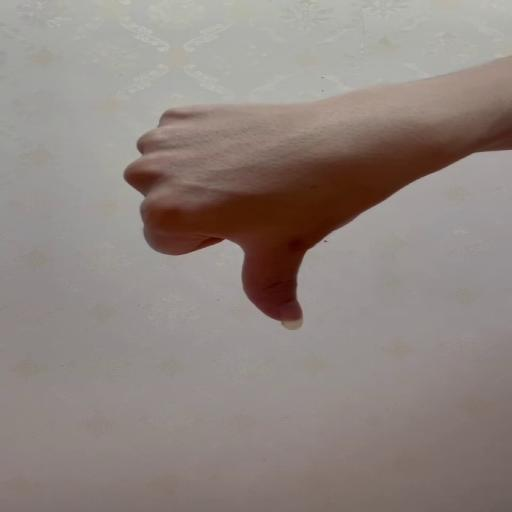thumbs_down: (118, 100, 386, 332)
